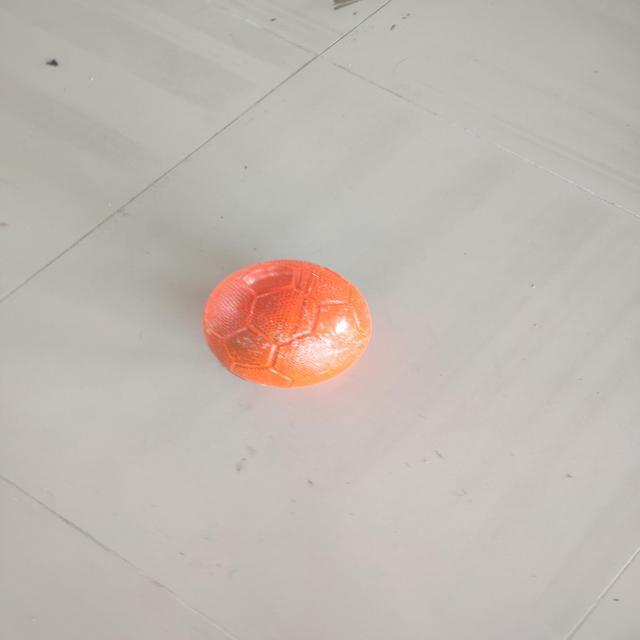bola: (199, 252, 380, 394)
